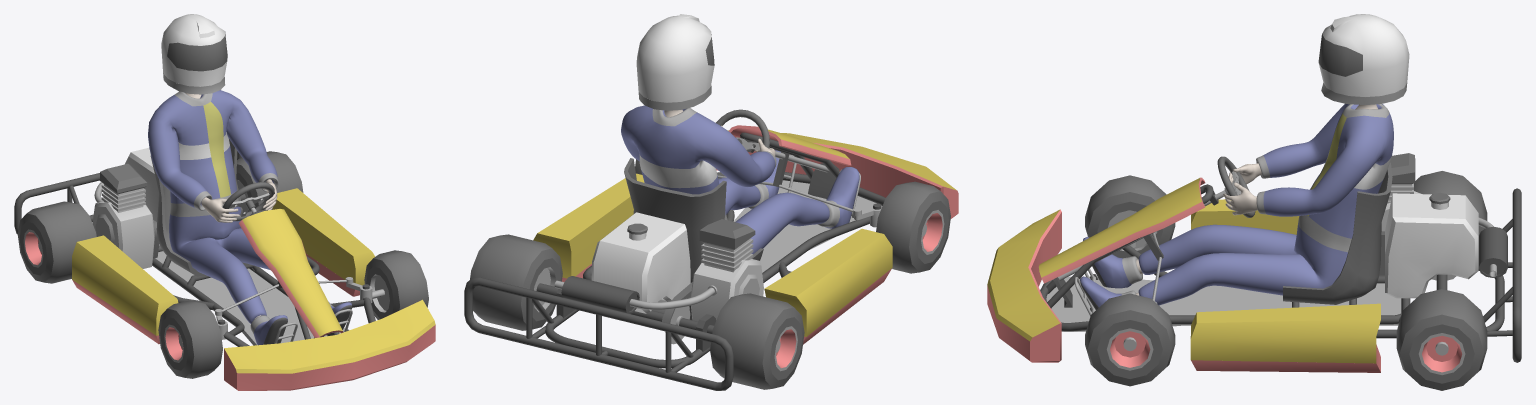
The model's file is racing_kart-transformed.glb.
3 renders of one model, left to right at view 1: azimuth 30°, elevation 25°; view 2: azimuth 150°, elevation 25°; view 3: azimuth 270°, elevation 25°, orthographic. The views are drawn at different scales.
Visible parts, largest first — view 1: Body_Lines2_0, FR_Wheel_Tires_0, drivers_Mono1_0, FR_Wheel_Body_0, Chassis_Rims_0, Chassis_Chassis_0, Engine_Engine_0, drivers_Casco_0, drivers_Visera_0, drivers_Mono2_0 (×2), drivers_Casco2_0, Engine_Deposit_0 (+1 smaller); view 2: FR_Wheel_Tires_0, Chassis_Chassis_0, Body_Lines2_0, drivers_Mono1_0, Engine_Deposit_0, Chassis_Rims_0, drivers_Casco_0, FR_Wheel_Body_0, Engine_Engine_0, drivers_Casco2_0, drivers_Mono2_0; view 3: FR_Wheel_Tires_0, drivers_Mono1_0, Body_Lines2_0, FR_Wheel_Body_0, Engine_Deposit_0, Chassis_Rims_0, Chassis_Chassis_0, drivers_Casco_0, drivers_Casco2_0, drivers_Visera_0, drivers_Piel_0, drivers_Mono2_0 (×2).
Boxes of the visible parts, x1,y1,x2,y2 form: Body_Lines2_0: (72,188,435,373); FR_Wheel_Tires_0: (17,138,428,378); drivers_Mono1_0: (148,90,351,345); FR_Wheel_Body_0: (25,220,435,390); Chassis_Rims_0: (23,179,389,362); Chassis_Chassis_0: (14,151,375,346); Engine_Engine_0: (92,184,154,268); drivers_Casco_0: (161,14,227,86); drivers_Visera_0: (167,31,352,344); drivers_Mono2_0 (×2): (178,102,230,197); drivers_Casco2_0: (163,73,333,334); Engine_Deposit_0: (125,147,158,222); FR_Wheel_Tires_0: (470,109,950,389); Chassis_Chassis_0: (464,132,885,390); Body_Lines2_0: (533,129,956,336); drivers_Mono1_0: (621,105,859,254); Engine_Deposit_0: (591,212,690,313); Chassis_Rims_0: (534,137,944,371); drivers_Casco_0: (636,14,714,102); FR_Wheel_Body_0: (562,125,958,368); Engine_Engine_0: (690,238,763,321); drivers_Casco2_0: (638,85,839,227); drivers_Mono2_0: (639,154,717,188); FR_Wheel_Tires_0: (1085,153,1487,390); drivers_Mono1_0: (1080,104,1393,307); Body_Lines2_0: (987,178,1380,363); FR_Wheel_Body_0: (987,177,1462,372); Engine_Deposit_0: (1385,193,1478,298); Chassis_Rims_0: (1046,171,1496,374); Chassis_Chassis_0: (1040,184,1521,362); drivers_Casco_0: (1318,14,1409,96); drivers_Casco2_0: (1121,83,1407,295); drivers_Visera_0: (1080,34,1362,309); drivers_Piel_0: (1136,104,1377,295); drivers_Mono2_0 (×2): (1307,113,1391,215).
Size of the model in its own units: 1.15 by 1.11 by 1.77.
